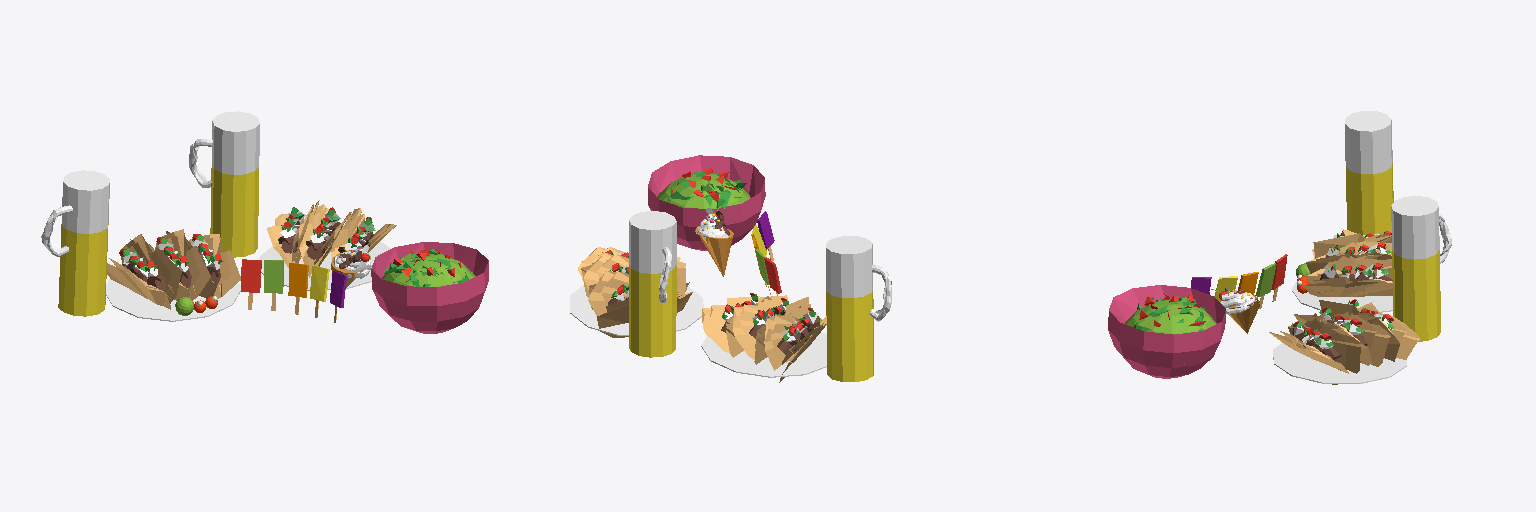
3 views of the same model, side by side, from view 1: azimuth 30°, elevation 25°; view 2: azimuth 150°, elevation 25°; view 3: azimuth 270°, elevation 25° (orthographic).
Parts seen in each view (by area): view 1: group[number redacted], group[number redacted], group[number redacted], group[number redacted], group[number redacted], group[number redacted], group[number redacted], group[number redacted], group[number redacted], group[number redacted], group[number redacted], group[number redacted] (+1 smaller); view 2: group[number redacted], group[number redacted], group[number redacted], group[number redacted], group[number redacted], group[number redacted], group[number redacted], group[number redacted], group[number redacted], group[number redacted], group[number redacted], group[number redacted]; view 3: group[number redacted], group[number redacted], group[number redacted], group[number redacted], group[number redacted], group[number redacted], group[number redacted], group[number redacted], group[number redacted], group[number redacted].
Boxes of the visible parts, box(x1,y1,x2,y2) form: group[number redacted]: box(189, 111, 396, 290); group[number redacted]: box(371, 242, 488, 333); group[number redacted]: box(58, 223, 108, 316); group[number redacted]: box(241, 259, 346, 322); group[number redacted]: box(61, 170, 109, 233); group[number redacted]: box(106, 279, 240, 321); group[number redacted]: box(331, 245, 371, 287); group[number redacted]: box(107, 263, 170, 309); group[number redacted]: box(121, 234, 181, 307); group[number redacted]: box(155, 229, 210, 300); group[number redacted]: box(129, 239, 171, 291); group[number redacted]: box(189, 234, 240, 298); group[number redacted]: box(570, 211, 703, 357); group[number redacted]: box(648, 155, 765, 250); group[number redacted]: box(826, 291, 873, 381); group[number redacted]: box(826, 236, 872, 297); group[number redacted]: box(701, 332, 826, 377); group[number redacted]: box(695, 206, 733, 276); group[number redacted]: box(751, 211, 781, 296); group[number redacted]: box(771, 304, 810, 362); group[number redacted]: box(764, 297, 808, 370); group[number redacted]: box(740, 299, 787, 345); group[number redacted]: box(733, 295, 787, 359); group[number redacted]: box(702, 296, 759, 353); group[number redacted]: box(1269, 196, 1451, 384); group[number redacted]: box(1108, 285, 1225, 378); group[number redacted]: box(1346, 163, 1393, 235); group[number redacted]: box(1345, 111, 1392, 173); group[number redacted]: box(1191, 254, 1287, 308); group[number redacted]: box(1302, 280, 1392, 296); group[number redacted]: box(1209, 288, 1259, 333); group[number redacted]: box(1292, 282, 1392, 312); group[number redacted]: box(1313, 233, 1391, 258); group[number redacted]: box(1317, 256, 1392, 281).
Size of the model in its own units: 3.01 by 1.27 by 2.66.